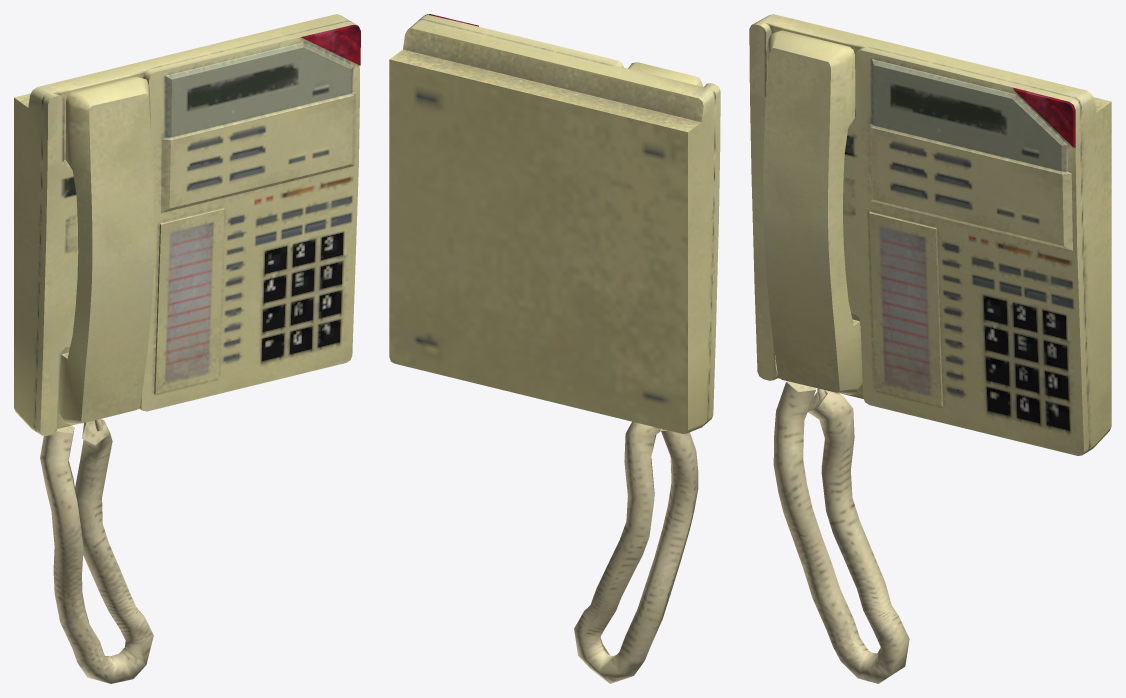
File: 040_walltelephone.fbx
3 views of the same model, side by side, from view 1: azimuth 30°, elevation 25°; view 2: azimuth 150°, elevation 25°; view 3: azimuth 330°, elevation 25° (orthographic). The views are drawn at different scales.
Visible parts, largest first — view 1: LOD_1_Group_0_Sub_1__sm31_033_NinetiesTelephone01A_A_Mat1, LOD_1_Group_1_Sub_1__sm31_033_NinetiesTelephone01A_A_Mat1; view 2: LOD_1_Group_0_Sub_1__sm31_033_NinetiesTelephone01A_A_Mat1, LOD_1_Group_1_Sub_1__sm31_033_NinetiesTelephone01A_A_Mat1; view 3: LOD_1_Group_0_Sub_1__sm31_033_NinetiesTelephone01A_A_Mat1, LOD_1_Group_1_Sub_1__sm31_033_NinetiesTelephone01A_A_Mat1.
Part boxes in pixels (x1,y1,x2,y2): LOD_1_Group_0_Sub_1__sm31_033_NinetiesTelephone01A_A_Mat1: (14, 14, 360, 435); LOD_1_Group_1_Sub_1__sm31_033_NinetiesTelephone01A_A_Mat1: (40, 419, 153, 683); LOD_1_Group_0_Sub_1__sm31_033_NinetiesTelephone01A_A_Mat1: (389, 14, 720, 433); LOD_1_Group_1_Sub_1__sm31_033_NinetiesTelephone01A_A_Mat1: (574, 421, 698, 683); LOD_1_Group_0_Sub_1__sm31_033_NinetiesTelephone01A_A_Mat1: (749, 14, 1111, 455); LOD_1_Group_1_Sub_1__sm31_033_NinetiesTelephone01A_A_Mat1: (773, 381, 909, 683).
Bounding box in the file's own units: 0.24 × 0.46 × 0.0662.
